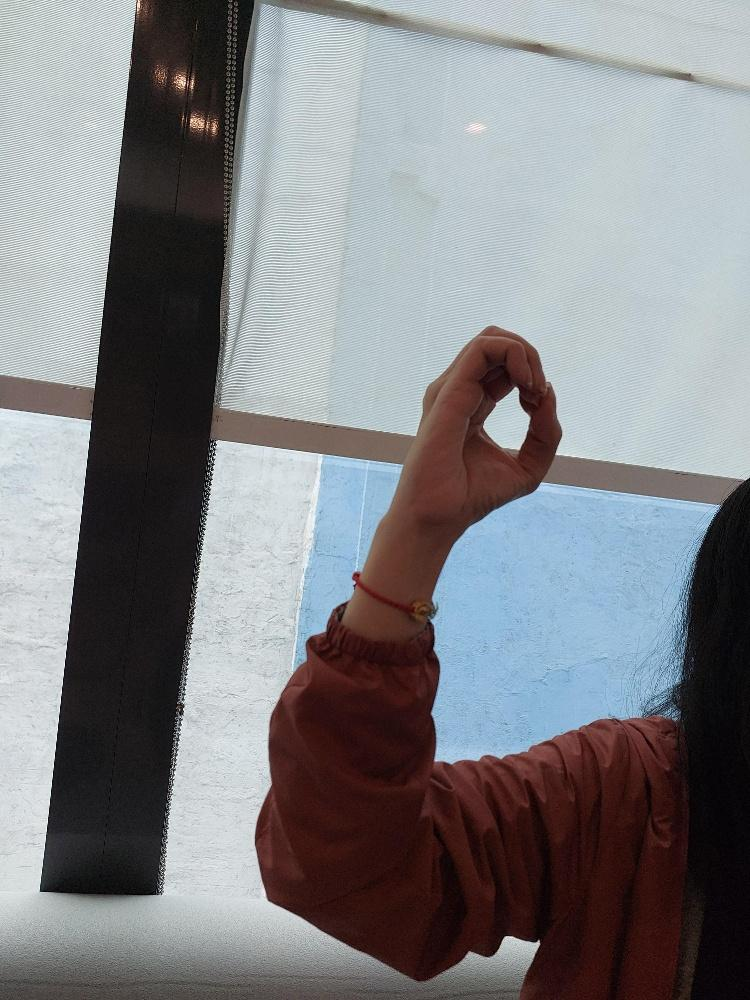o: (404, 326, 566, 536)
